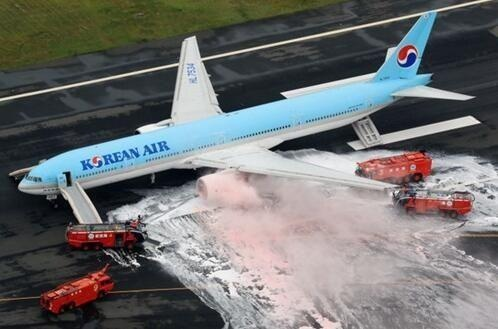airplane: (9, 11, 471, 214)
